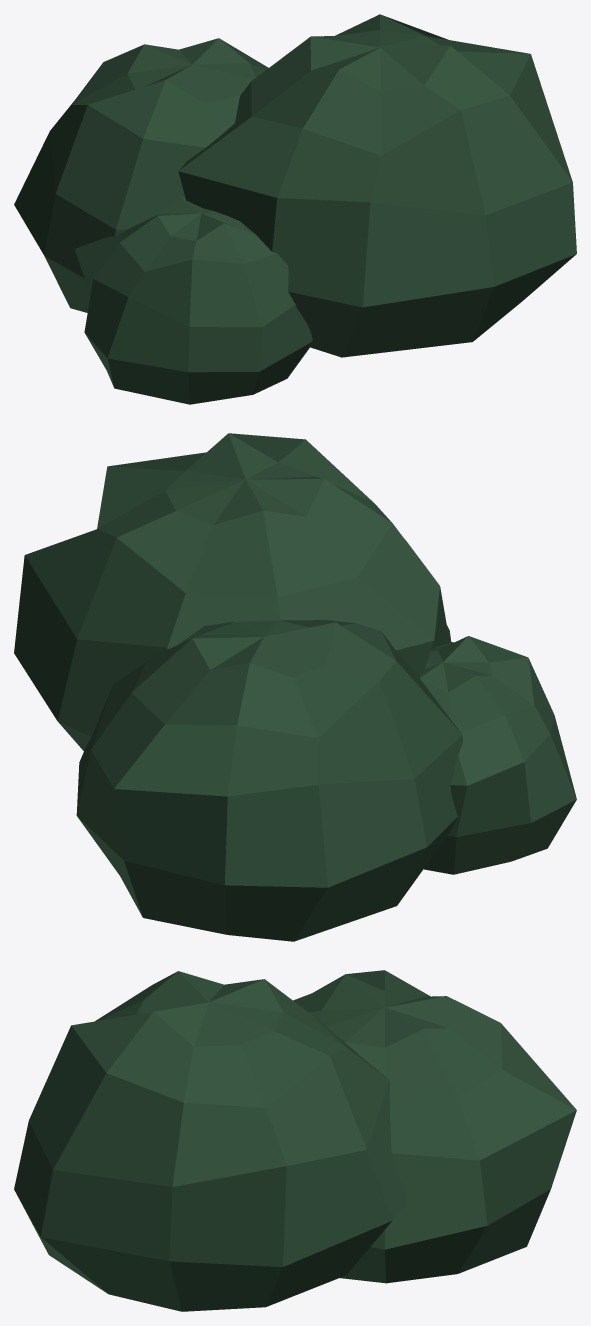
The model's file is bush003.fbx.
3 renders of one model, top to bottom at view 1: azimuth 30°, elevation 25°; view 2: azimuth 150°, elevation 25°; view 3: azimuth 270°, elevation 25°, orthographic. The views are drawn at different scales.
Parts seen in each view (by area): view 1: bush003; view 2: bush003; view 3: bush003.
Boxes of the visible parts, <box> form: bush003: <box>14,14,576,404</box>; bush003: <box>14,433,576,941</box>; bush003: <box>14,970,576,1311</box>.
Size of the model in its own units: 3.79 by 3.91 by 2.23.
